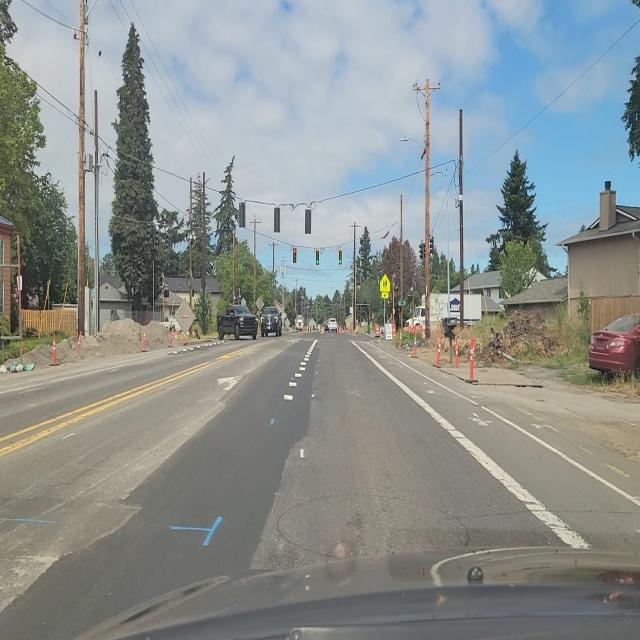car: (587, 314, 640, 383), (216, 306, 259, 342), (260, 306, 284, 337), (326, 318, 338, 333)
crosswalk-sign: (380, 274, 390, 299)
delineator: (469, 337, 476, 381), (454, 337, 460, 369), (436, 337, 442, 368), (412, 327, 418, 357), (52, 333, 57, 365), (76, 332, 82, 356), (398, 323, 403, 349), (169, 326, 174, 347), (142, 330, 146, 352), (182, 332, 186, 346)
